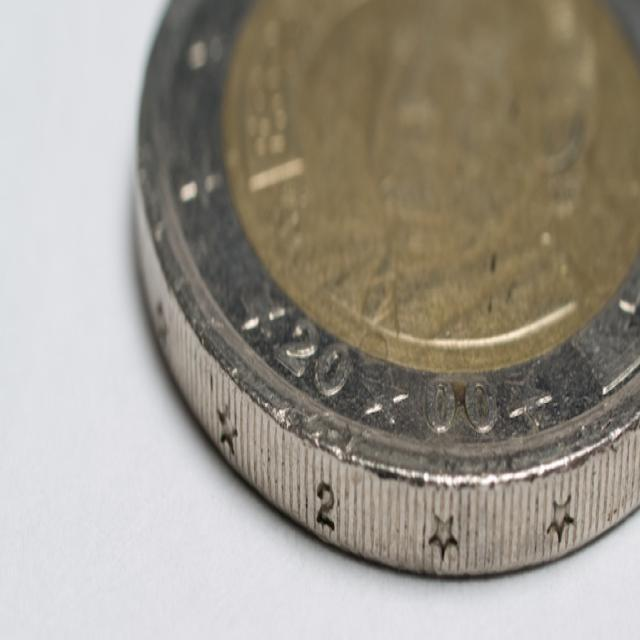Coin: (130, 0, 639, 577)
